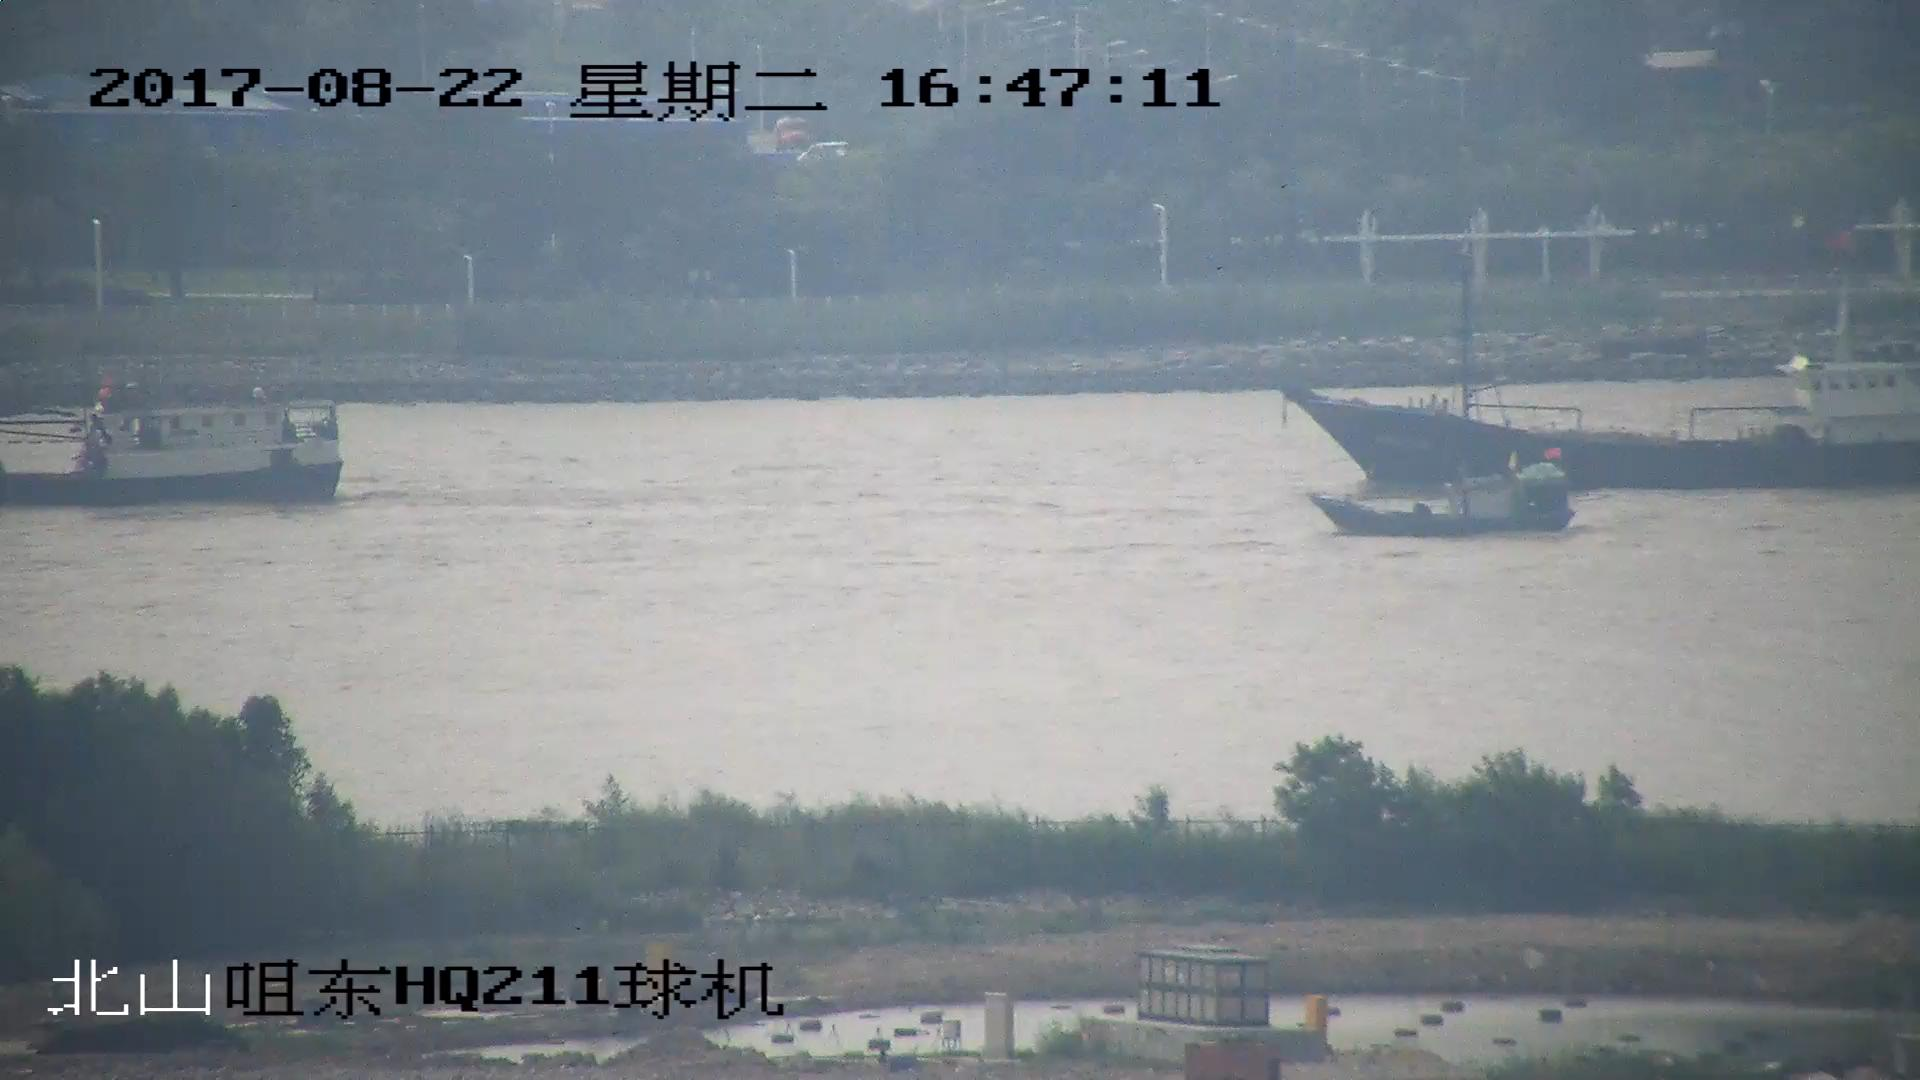fishing boat: (1280, 248, 1920, 488), (1, 380, 346, 503), (1314, 452, 1574, 539)
